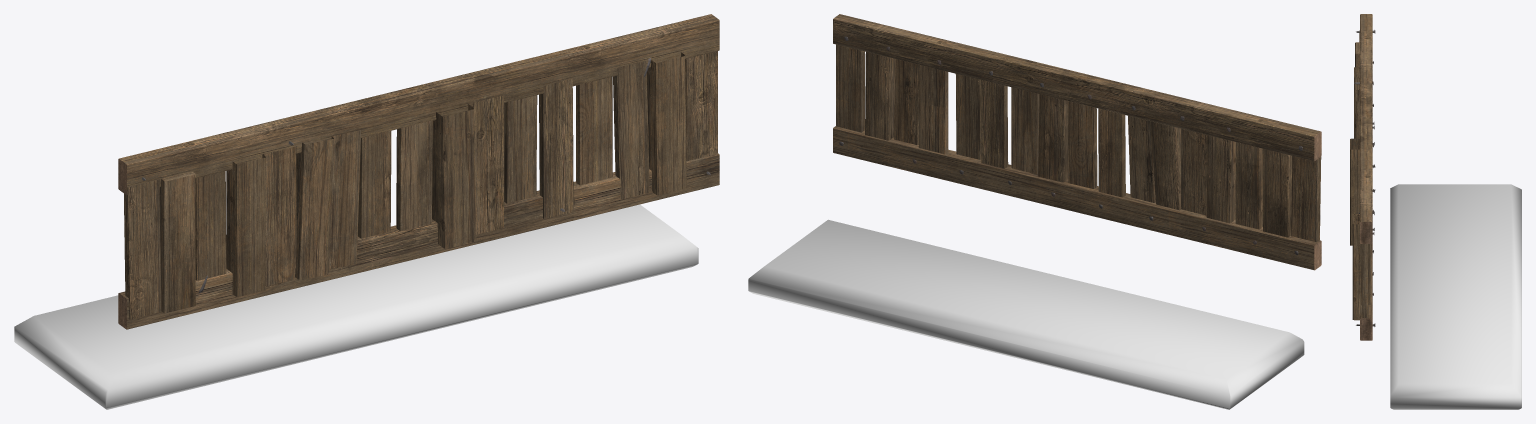
File: SM_Wall_Decorative_B.fbx
3 views of the same model, side by side, from view 1: azimuth 30°, elevation 25°; view 2: azimuth 150°, elevation 25°; view 3: azimuth 270°, elevation 25° (orthographic). The views are drawn at different scales.
Parts seen in each view (by area): view 1: SM_Wall_Decorative_B, SM_Wall_Decorative_B_ConvexHulls; view 2: SM_Wall_Decorative_B, SM_Wall_Decorative_B_ConvexHulls; view 3: SM_Wall_Decorative_B_ConvexHulls, SM_Wall_Decorative_B.
Part boxes in pixels (box(x1,y1,x2,y2)): SM_Wall_Decorative_B: box(118, 14, 719, 329); SM_Wall_Decorative_B_ConvexHulls: box(14, 204, 698, 409); SM_Wall_Decorative_B: box(833, 14, 1321, 270); SM_Wall_Decorative_B_ConvexHulls: box(748, 219, 1304, 409); SM_Wall_Decorative_B_ConvexHulls: box(1390, 184, 1521, 409); SM_Wall_Decorative_B: box(1350, 14, 1375, 340).
Bounding box in the file's own units: 3 × 1.27 × 1.05.
